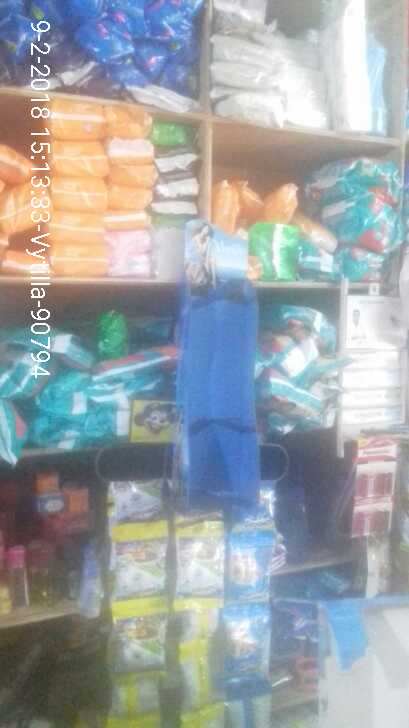reject: (145, 268, 261, 359)
